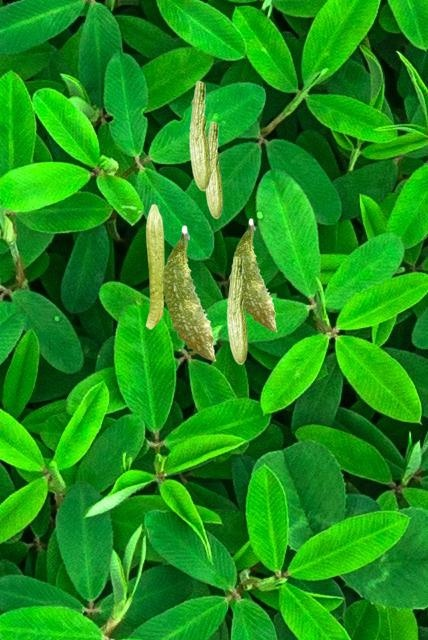ampalaya: (160, 225, 216, 361), (230, 218, 277, 332), (188, 80, 211, 191), (226, 256, 248, 365), (145, 204, 164, 329), (205, 121, 223, 219)
